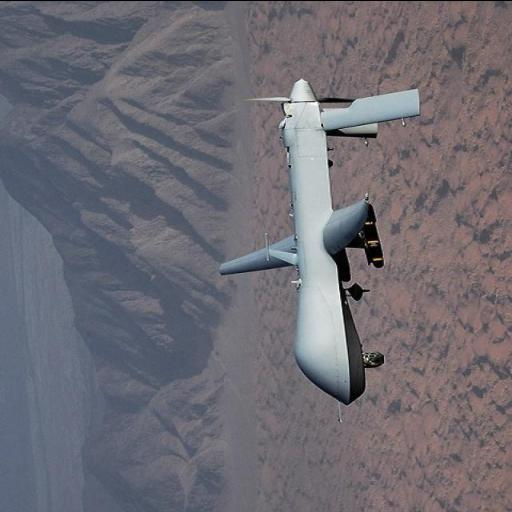uav: (216, 62, 426, 410)
